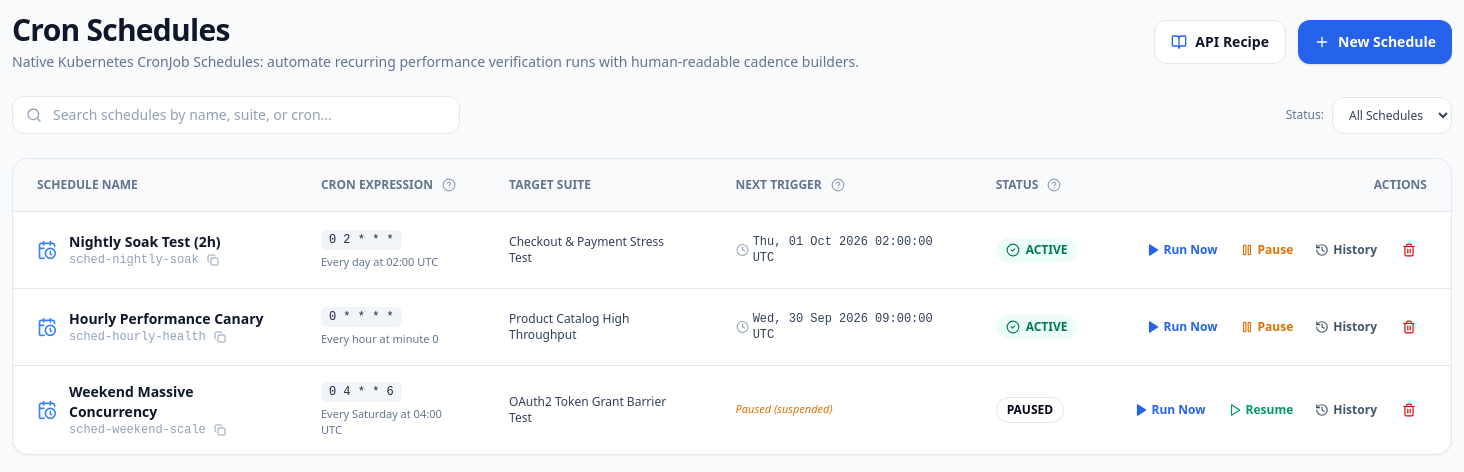
Scenario: SchedulesView Component › filters schedules by status (Active / Paused)
This screenshot has width=1464, height=472.
Check: the text "Nightly Soak Test (2h)" is shown, box [69,232,221,252]
Select "Paused Only" in the dropdown named "filter by status" at (1392, 115), box [1332,96,1452,134]
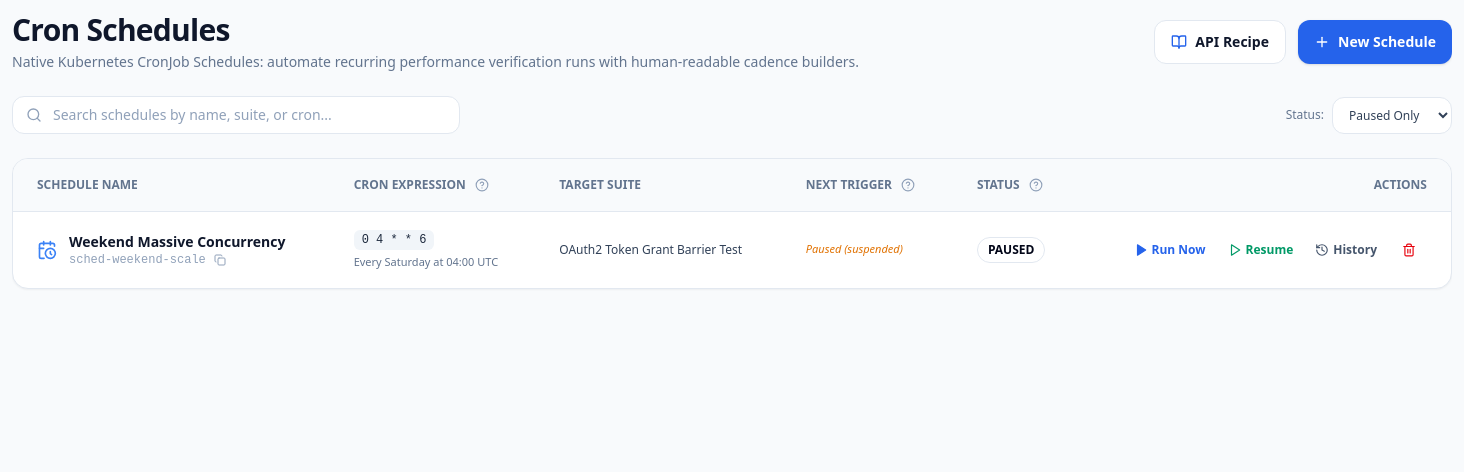
Check: the text "Weekend Massive Concurrency" is shown, box [69,232,285,252]
Check: the text "Nightly Soak Test (2h)" is gone
